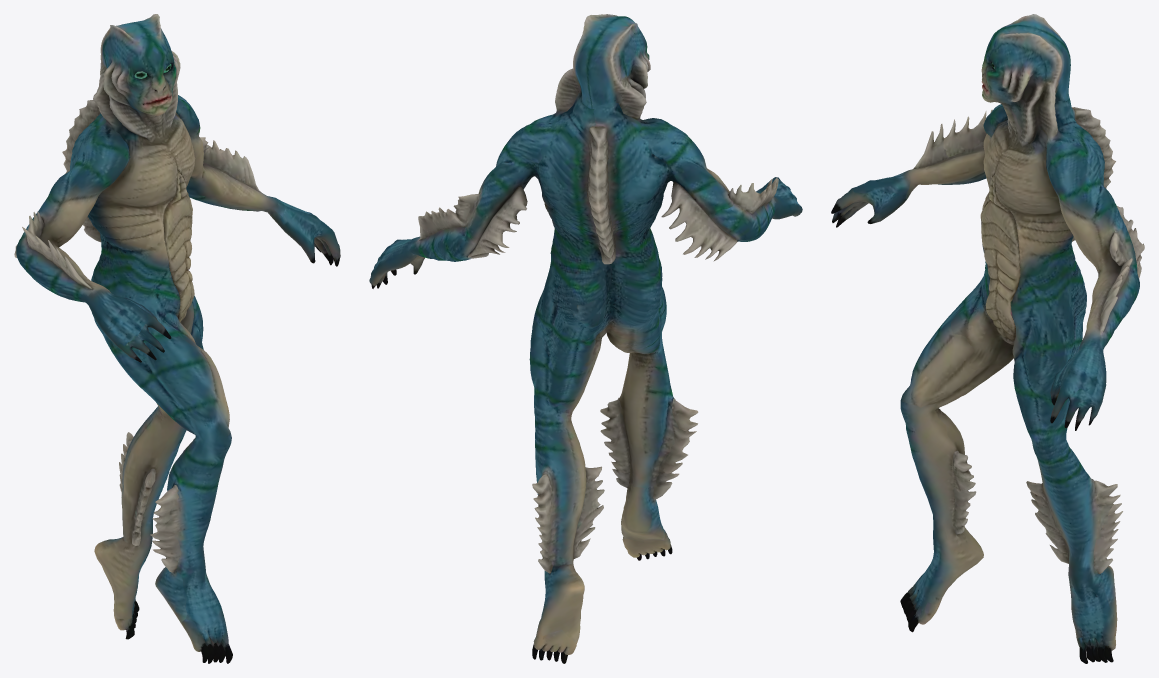
File: MZ4250 - SeaSpawn_1b.glb
The picture shows the model from 3 angles, left to right: view 1: azimuth 30°, elevation 25°; view 2: azimuth 150°, elevation 25°; view 3: azimuth 270°, elevation 25°; orthographic projection. The views are drawn at different scales.
Parts seen in each view (by area): view 1: Body.002; view 2: Body.002; view 3: Body.002.
Part boxes in pixels (<box>): Body.002: <box>14,14,340,663</box>; Body.002: <box>369,14,802,663</box>; Body.002: <box>831,14,1144,663</box>.
Size of the model in its own units: 69.61 by 120 by 54.2.
Materials: 1 (1 with a texture image).
